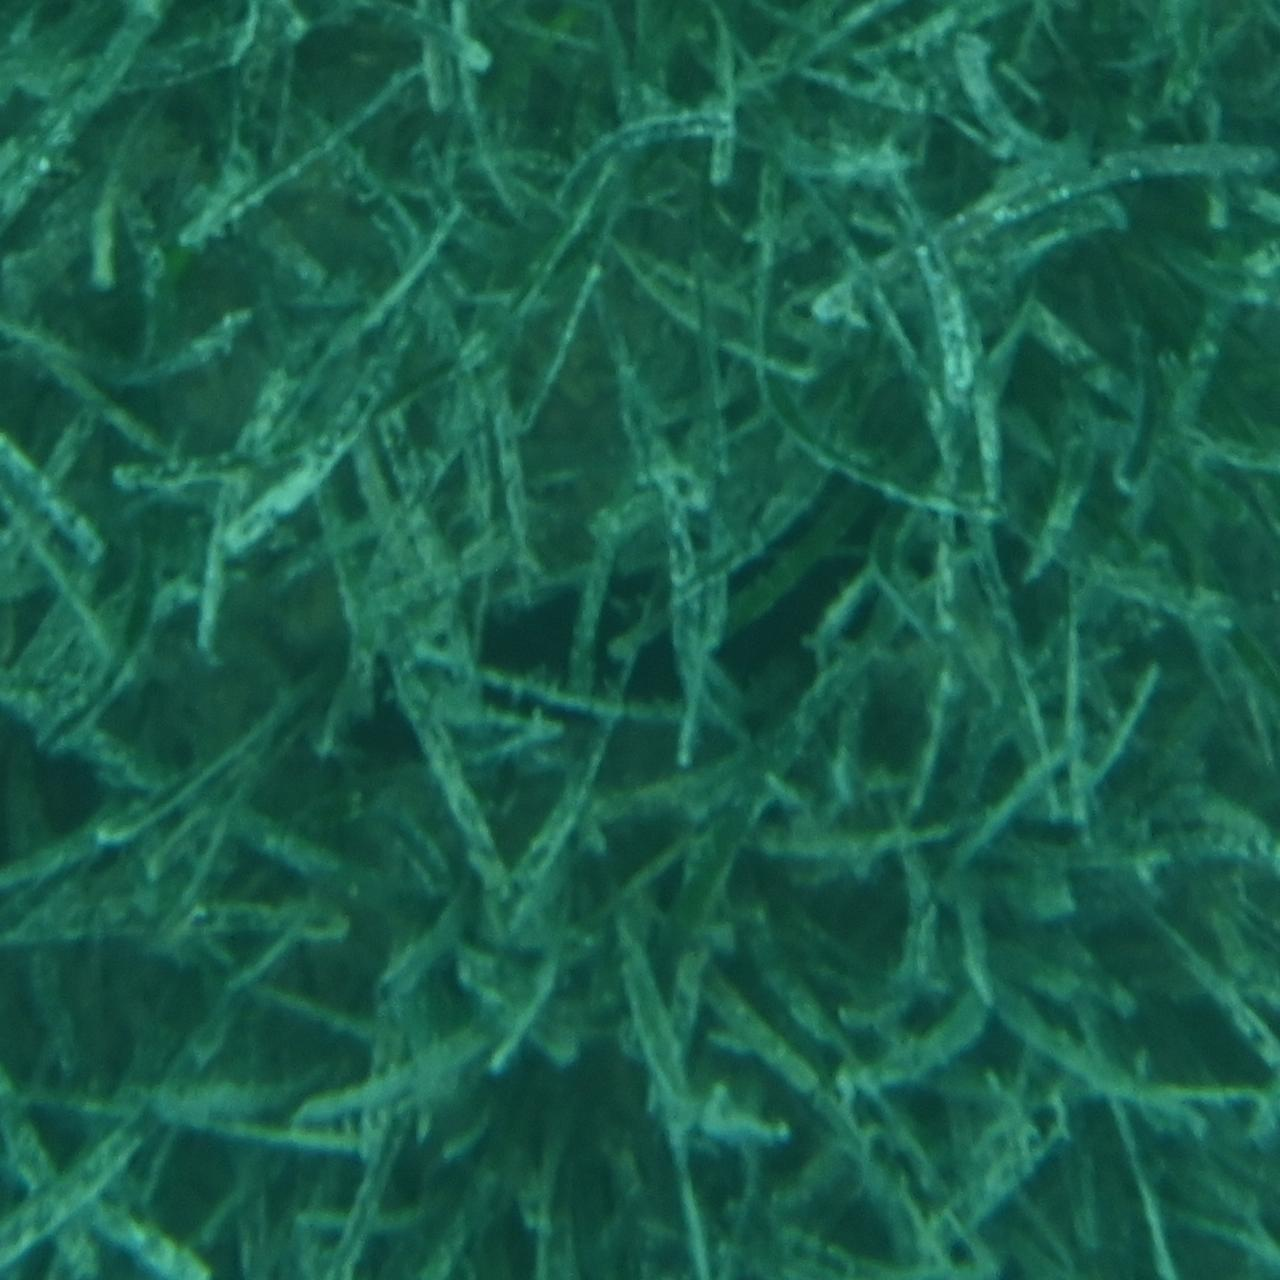Holothuria tubulosa: (345, 461, 935, 819)
